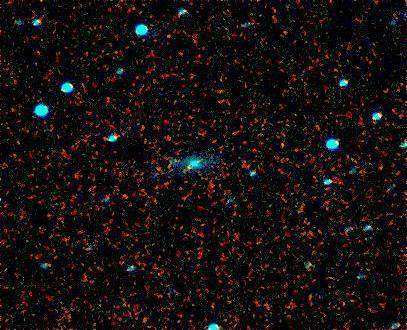star: (176, 154, 206, 184)
